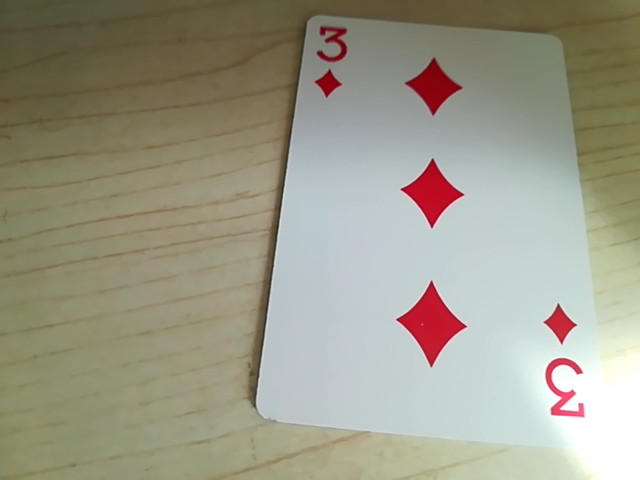fk 3: (535, 318, 589, 433), (302, 16, 347, 91)
